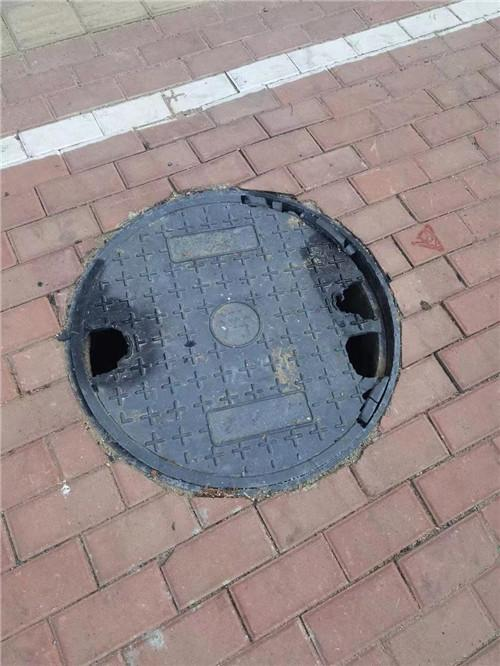wellcover: (55, 193, 437, 502)
